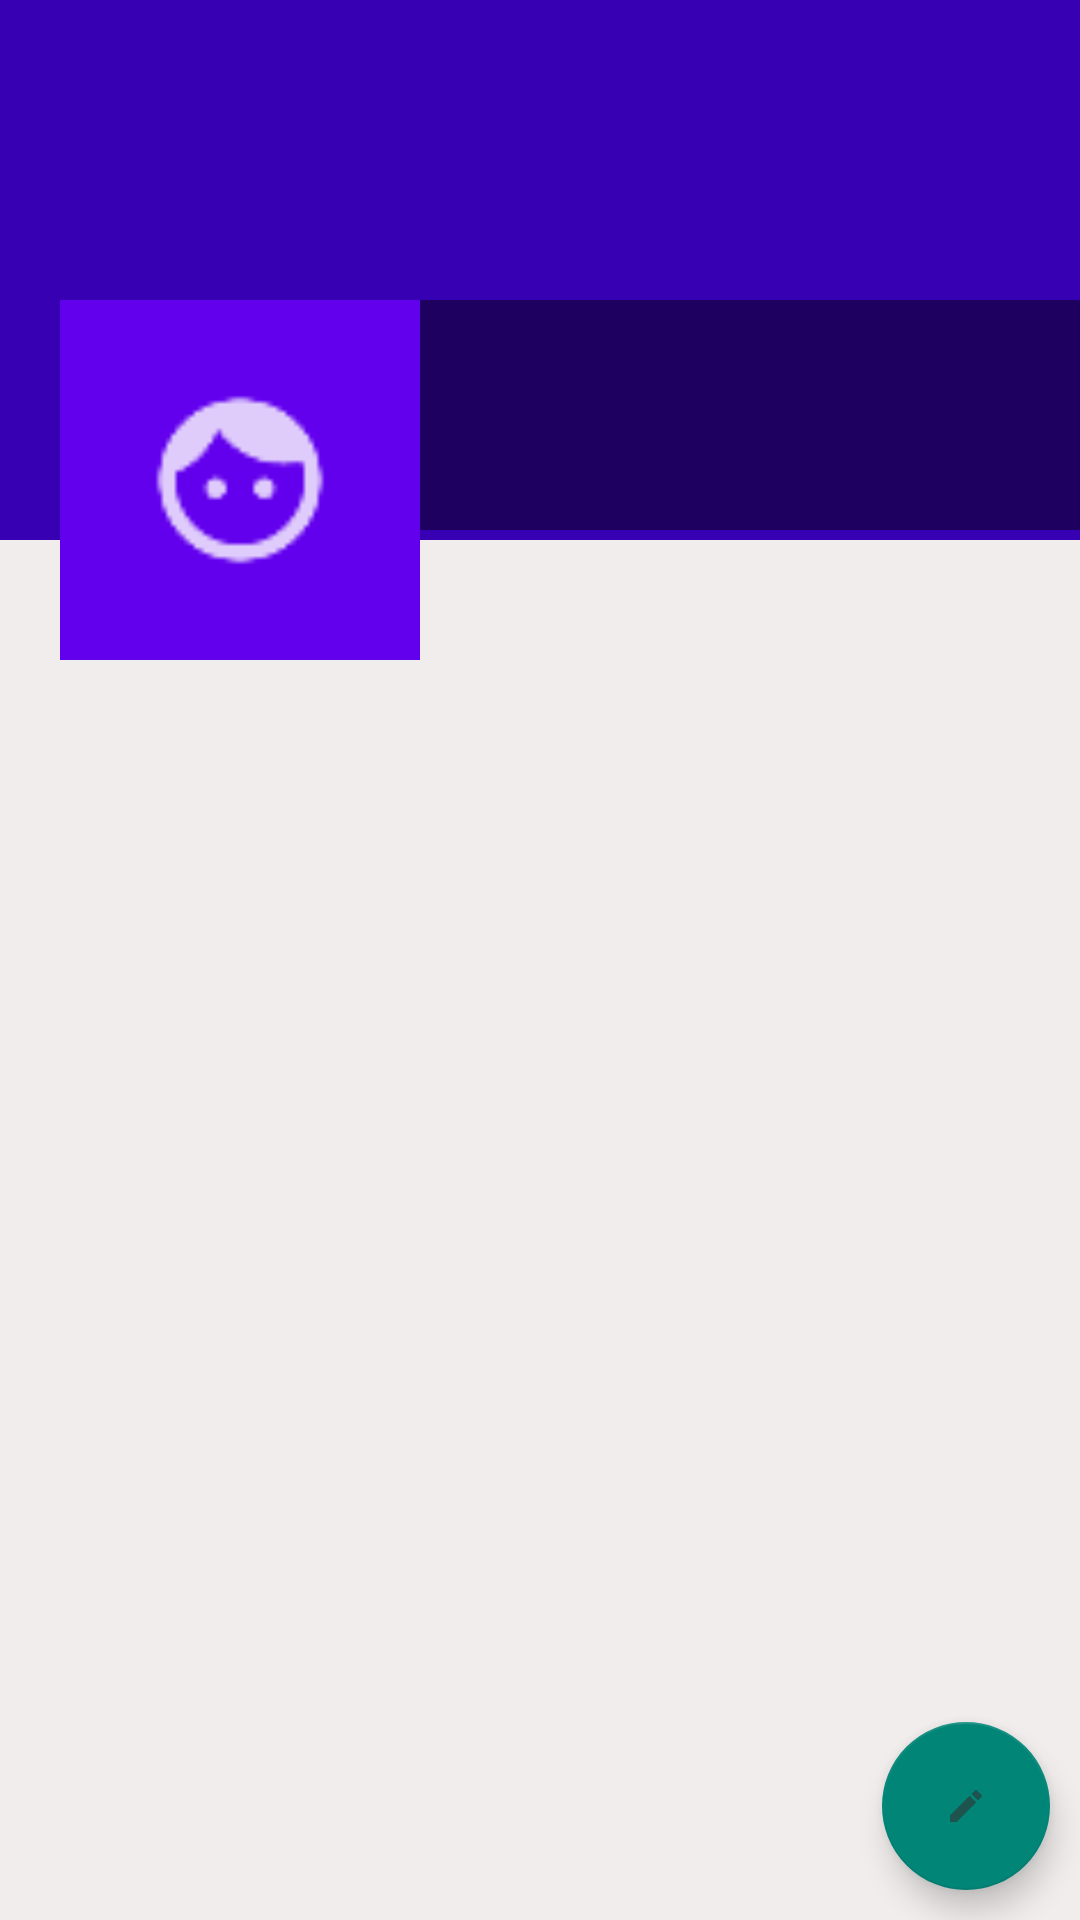

Screen size 1080*1920. Icon name, then its center in pixels as point (x, y):
edit: point (966, 1806)
